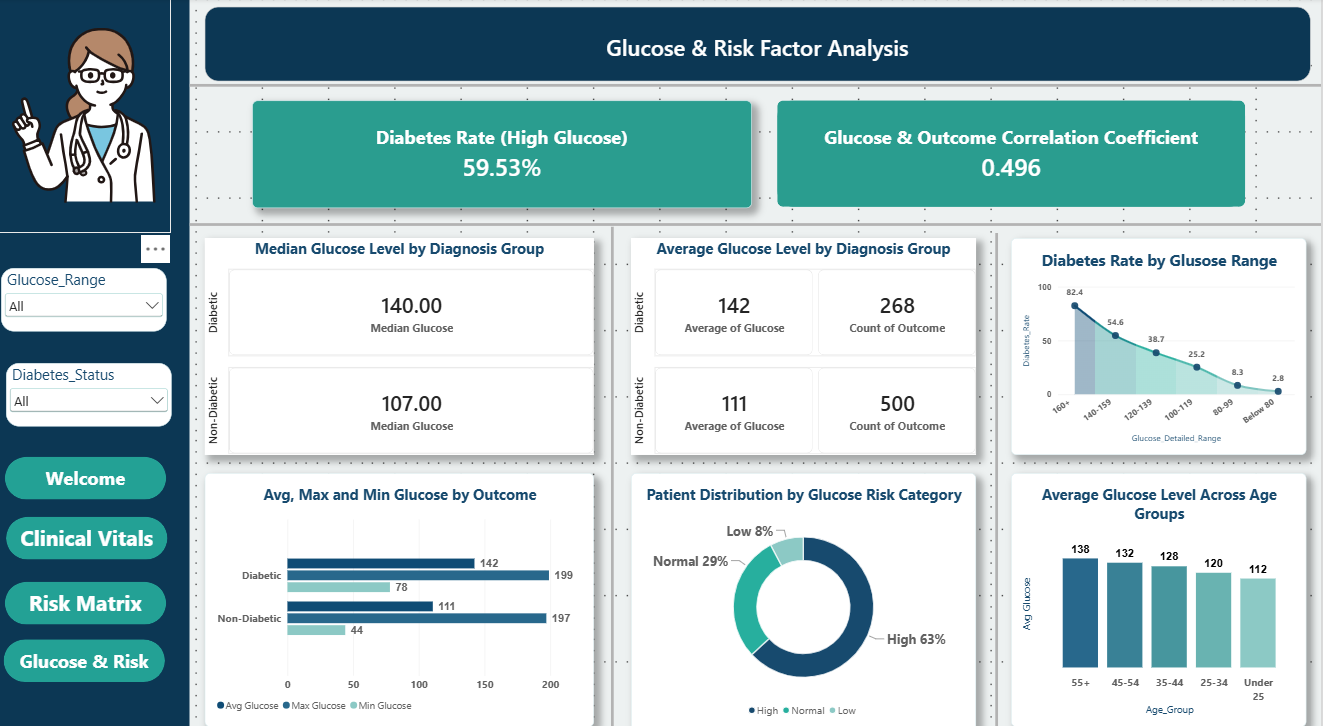

The page's visual inventory and layout, read from the dashboard file:
{"tool":"powerbi","page":{"name":"Glucose & Risk Analysis2","canvas":[1920,1080],"ordinal":1},"visuals":[{"type":"shape","box":[0,0,280,1056],"z":0},{"type":"shape","box":[280,120,1640,14],"z":1000},{"type":"shape","box":[882,332,22,748],"z":2000},{"type":"shape","box":[1440,340,20,740],"z":3000},{"type":"textbox","box":[302,12,1602,108],"z":4000},{"type":"shape","box":[280,324,1640,8],"z":5000},{"type":"image","box":[0,0,254,340],"z":6000},{"type":"slicer","fields":{"Values":["diabetes_cleaned.Glucose_Range"]},"box":[8,392,240,92],"z":7000},{"type":"cardVisual","title":"Diabetes Rate (High Glucose)","fields":{"Data":["diabetes_cleaned.High_Glucose_Diabetes_Percentage"]},"box":[371.2,148.8,724,156],"z":8000},{"type":"cardVisual","fields":{"Data":["diabetes_cleaned.Glucose_Outcome_Correlation"]},"box":[1131.2,148.8,678,154],"z":9000},{"type":"donutChart","title":"Patient Distribution by Glucose Risk Category","fields":{"Category":["diabetes_cleaned.Glucose_Range"],"Y":["diabetes_cleaned.Diabetes_Rate"]},"box":[920,688,500,376],"z":10000},{"type":"cardVisual","title":"Average Glucose Level by Diagnosis Group","fields":{"Data":["Avg(diabetes_cleaned.Glucose)","CountNonNull(diabetes_cleaned.Outcome)"],"Rows":["diabetes_cleaned.Diabetes_Status"]},"box":[920,348,500,314],"z":11000},{"type":"cardVisual","title":"Median Glucose Level by Diagnosis Group","fields":{"Data":["diabetes_cleaned.Median Glucose"],"Rows":["diabetes_cleaned.Diabetes_Status"]},"box":[302,348,564,314],"z":12000},{"type":"clusteredBarChart","title":"Avg, Max and Min Glucose by Outcome","fields":{"Category":["diabetes_cleaned.Diabetes_Status"],"Y":["diabetes_cleaned.Avg Glucose","diabetes_cleaned.Max Glucose","diabetes_cleaned.Min Glucose"]},"box":[302,688,564,368],"z":13000},{"type":"areaChart","title":"Diabetes Rate by Glusose Range","fields":{"Category":["diabetes_cleaned.Glucose_Detailed_Range"],"Y":["diabetes_cleaned.Diabetes_Rate"]},"box":[1470,348,428,314],"z":14000},{"type":"clusteredColumnChart","title":"Average Glucose Level Across Age Groups","fields":{"Category":["diabetes_cleaned.Age_Group"],"Y":["diabetes_cleaned.Avg Glucose"]},"box":[1470,688,428,368],"z":15000},{"type":"actionButton","box":[12.4,664,234,62],"z":16000},{"type":"actionButton","box":[14.4,752,234,62],"z":17000},{"type":"actionButton","box":[12.4,846,234,62],"z":18000},{"type":"actionButton","box":[10.4,930,234,62],"z":19000},{"type":"slicer","fields":{"Values":["diabetes_cleaned.Diabetes_Status"]},"box":[14,528,240,92],"z":20000}]}

Visuals, with their boxes on the page's 1920x1080 design canvas (x1, y1, x2, y2). These are canvas units, not pixel positions in the 1323x726 screenshot, which may show the page scaled, cropped or inside an application window:
shape: box(0, 0, 280, 1056)
shape: box(280, 120, 1920, 134)
shape: box(882, 332, 904, 1080)
shape: box(1440, 340, 1460, 1080)
textbox: box(302, 12, 1904, 120)
shape: box(280, 324, 1920, 332)
image: box(0, 0, 254, 340)
slicer - diabetes_cleaned.Glucose_Range: box(8, 392, 248, 484)
"Diabetes Rate (High Glucose)" cardVisual: box(371, 149, 1095, 305)
cardVisual - diabetes_cleaned.Glucose_Outcome_Correlation: box(1131, 149, 1809, 303)
"Patient Distribution by Glucose Risk Category" donutChart: box(920, 688, 1420, 1064)
"Average Glucose Level by Diagnosis Group" cardVisual: box(920, 348, 1420, 662)
"Median Glucose Level by Diagnosis Group" cardVisual: box(302, 348, 866, 662)
"Avg, Max and Min Glucose by Outcome" clusteredBarChart: box(302, 688, 866, 1056)
"Diabetes Rate by Glusose Range" areaChart: box(1470, 348, 1898, 662)
"Average Glucose Level Across Age Groups" clusteredColumnChart: box(1470, 688, 1898, 1056)
actionButton: box(12, 664, 246, 726)
actionButton: box(14, 752, 248, 814)
actionButton: box(12, 846, 246, 908)
actionButton: box(10, 930, 244, 992)
slicer - diabetes_cleaned.Diabetes_Status: box(14, 528, 254, 620)
